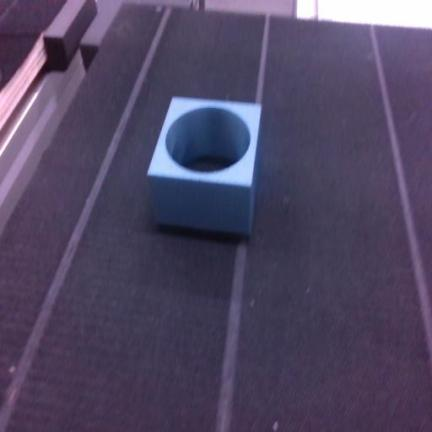hole: (148, 98, 260, 235)
